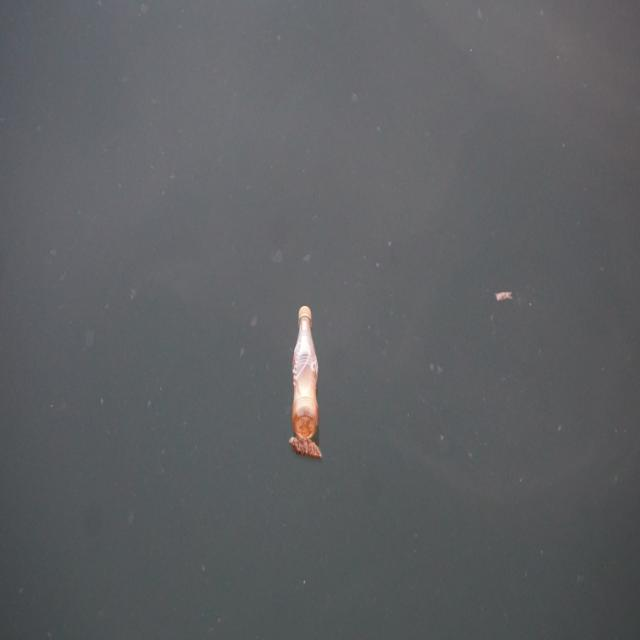Botol Plastik: (288, 297, 324, 443)
